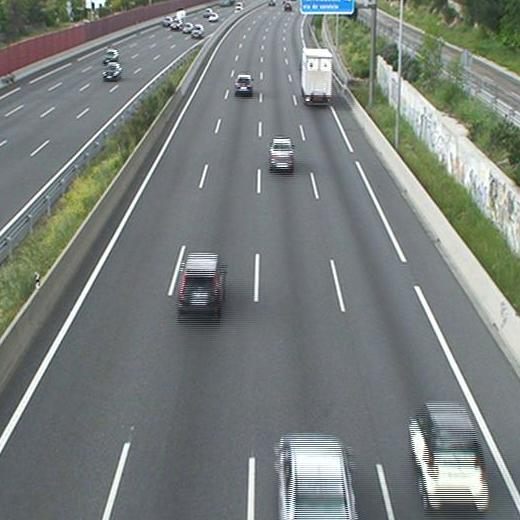car: (408, 403, 491, 510), (275, 433, 356, 520), (177, 252, 227, 324), (269, 137, 295, 174), (234, 74, 254, 96)
small-truck: (301, 47, 333, 108)
